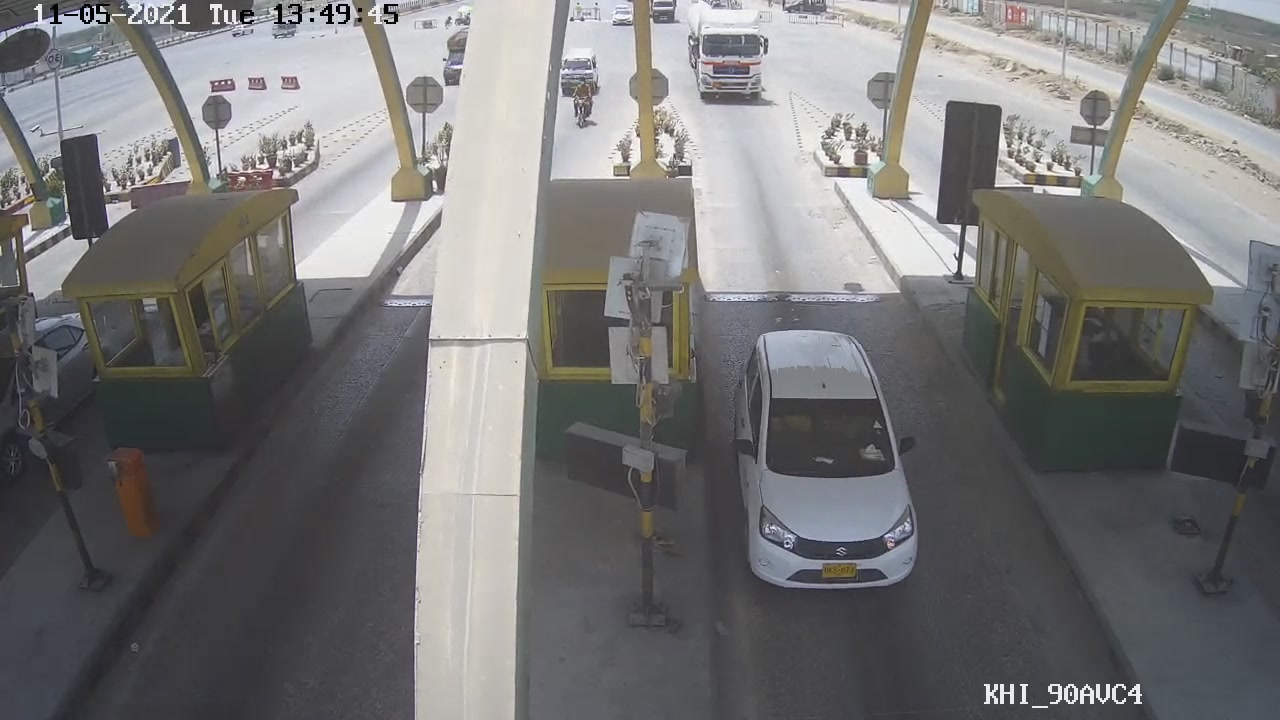F1: (720, 324, 931, 608)
